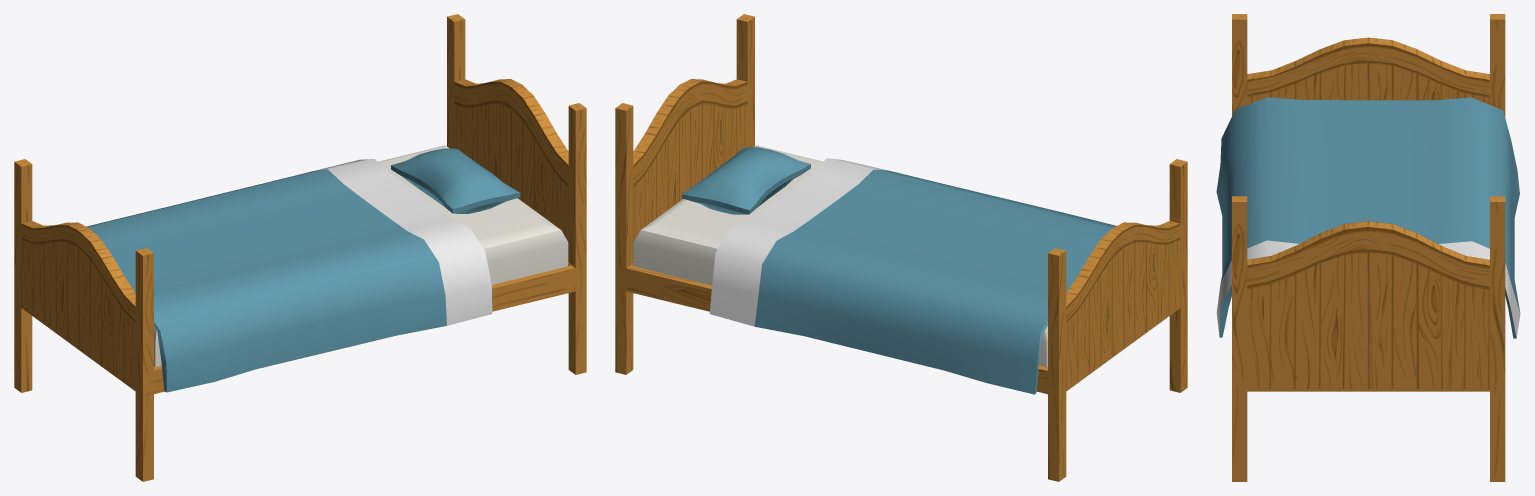
Rendered from furniture_bed_boy.fbx.
The picture shows the model from 3 angles, left to right: view 1: azimuth 30°, elevation 25°; view 2: azimuth 150°, elevation 25°; view 3: azimuth 270°, elevation 25°; orthographic projection. The views are drawn at different scales.
Parts seen in each view (by area): view 1: pillow1; view 2: pillow1; view 3: pillow1.
Part boxes in pixels (x1,y1,x2,y2): pillow1: [14, 14, 586, 481]; pillow1: [615, 14, 1187, 481]; pillow1: [1216, 14, 1520, 481].
Size of the model in its own units: 30.2 by 17.27 by 16.9.
